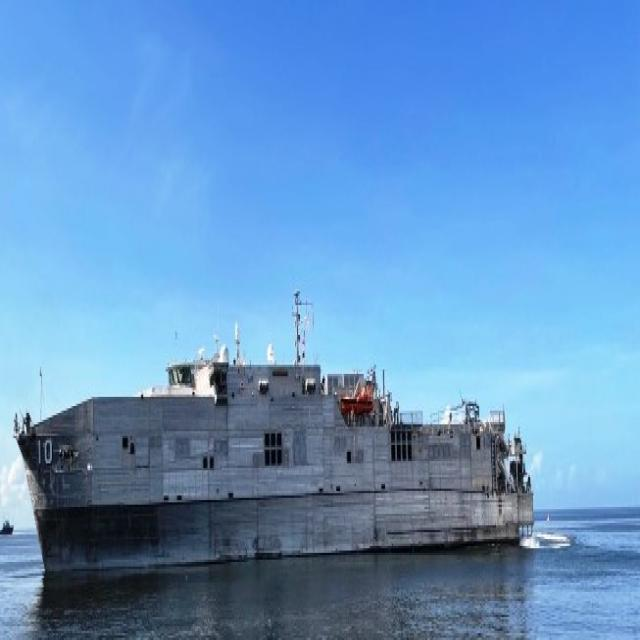cargoship: (18, 343, 523, 585)
